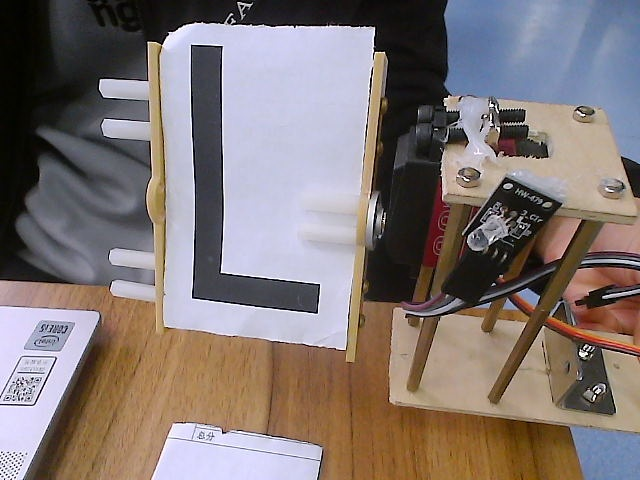L: (89, 11, 434, 369)
